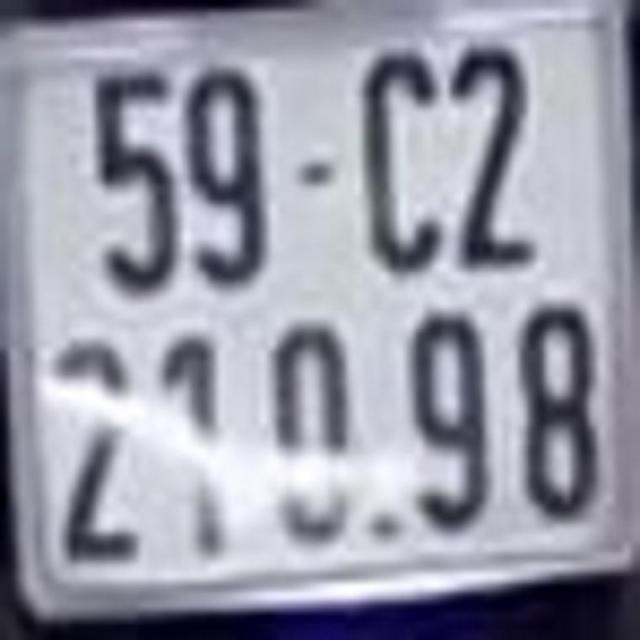0: (265, 311, 362, 563)
1: (163, 323, 224, 567)
2: (445, 45, 544, 278), (53, 331, 142, 568)
5: (88, 62, 178, 287)
8: (522, 302, 600, 524)
9: (403, 308, 489, 548), (180, 56, 264, 291)
C: (352, 45, 445, 268)
